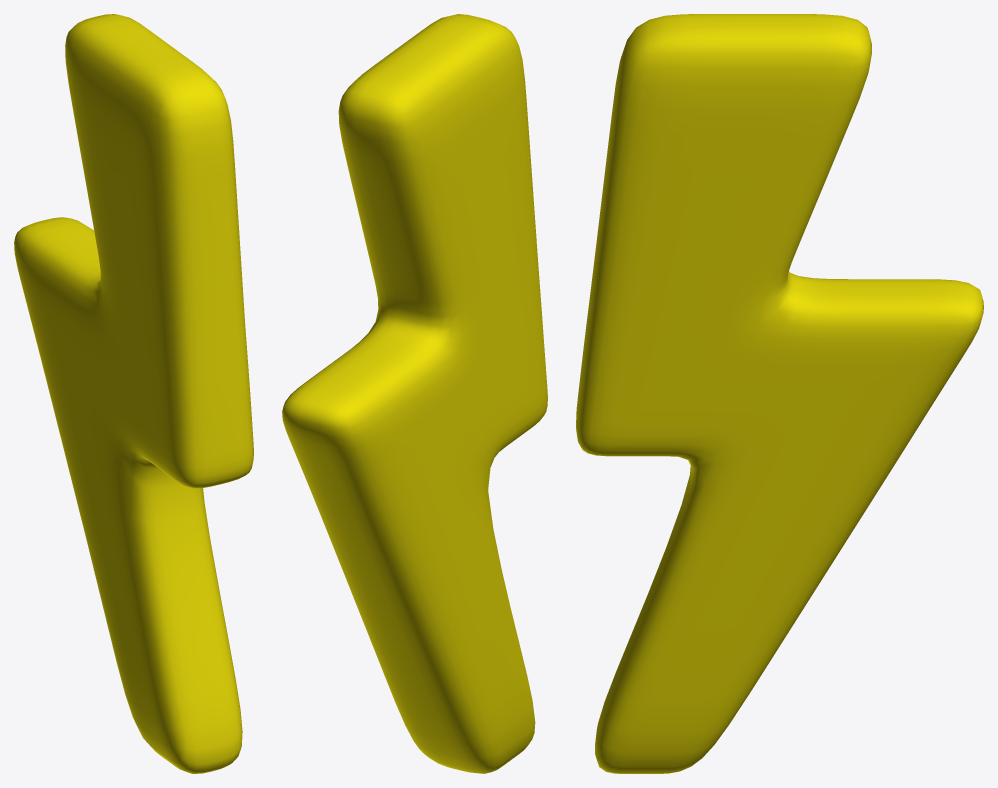
File: electric.fbx
3 views of the same model, side by side, from view 1: azimuth 30°, elevation 25°; view 2: azimuth 150°, elevation 25°; view 3: azimuth 270°, elevation 25° (orthographic). The views are drawn at different scales.
Visible parts, largest first — view 1: Electric; view 2: Electric; view 3: Electric.
Boxes of the visible parts, box(x1,y1,x2,y2) form: Electric: box(14, 14, 253, 773); Electric: box(282, 14, 547, 773); Electric: box(576, 14, 983, 773).
Bounding box in the file's own units: 10.78 × 89.83 × 44.65.
